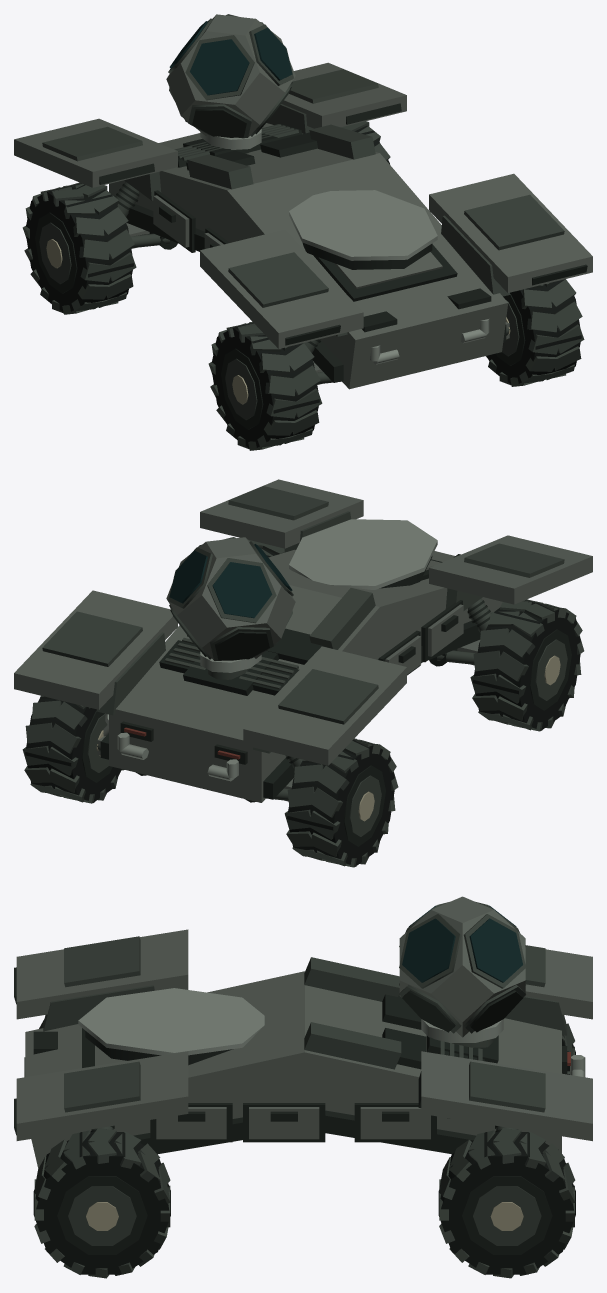
File: xb12_d0_lod1.meshopt.glb
The picture shows the model from 3 angles, top to bottom: view 1: azimuth 30°, elevation 25°; view 2: azimuth 150°, elevation 25°; view 3: azimuth 270°, elevation 25°; orthographic projection. The views are drawn at different scales.
Visible parts, largest first — view 1: XB12_HULL, WHEEL_RL, WHEEL_FL, SENSOR_INSTRUMENTS, WHEEL_FR, SENSOR_HEX_SPHERE, SUSP_ARM_RL; view 2: XB12_HULL, WHEEL_FL, WHEEL_RL, WHEEL_RR, SENSOR_INSTRUMENTS, SENSOR_HEX_SPHERE, SUSP_ARM_FL, DAMPER_BARREL_FL; view 3: XB12_HULL, WHEEL_FR, WHEEL_RR, SENSOR_INSTRUMENTS, SENSOR_HEX_SPHERE.
Part boxes in pixels (x1,y1,x2,y2): XB12_HULL: [14, 62, 592, 389]; WHEEL_RL: [22, 182, 136, 314]; WHEEL_FL: [208, 321, 322, 450]; SENSOR_INSTRUMENTS: [168, 14, 293, 138]; WHEEL_FR: [486, 279, 584, 386]; SENSOR_HEX_SPHERE: [166, 14, 295, 137]; SUSP_ARM_RL: [126, 223, 177, 249]; XB12_HULL: [14, 479, 592, 802]; WHEEL_FL: [470, 599, 584, 731]; WHEEL_RL: [284, 738, 398, 867]; WHEEL_RR: [22, 696, 124, 803]; SENSOR_INSTRUMENTS: [168, 537, 293, 660]; SENSOR_HEX_SPHERE: [166, 537, 295, 660]; SUSP_ARM_FL: [429, 640, 480, 666]; DAMPER_BARREL_FL: [467, 598, 490, 632]; XB12_HULL: [14, 929, 592, 1168]; WHEEL_FR: [33, 1128, 170, 1278]; WHEEL_RR: [438, 1128, 575, 1278]; SENSOR_INSTRUMENTS: [399, 902, 526, 1033]; SENSOR_HEX_SPHERE: [399, 896, 525, 1037].
Bounding box in the file's own units: 2.88 × 2.3 × 4.22.
